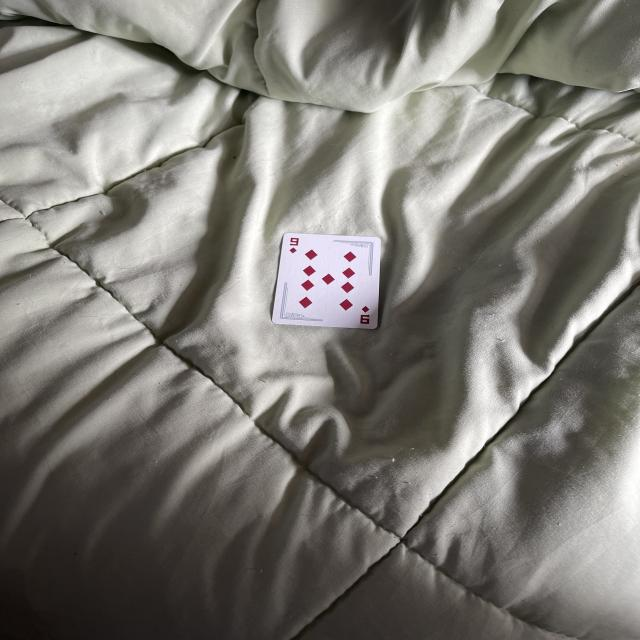9 of diamonds: (272, 233, 380, 329)
